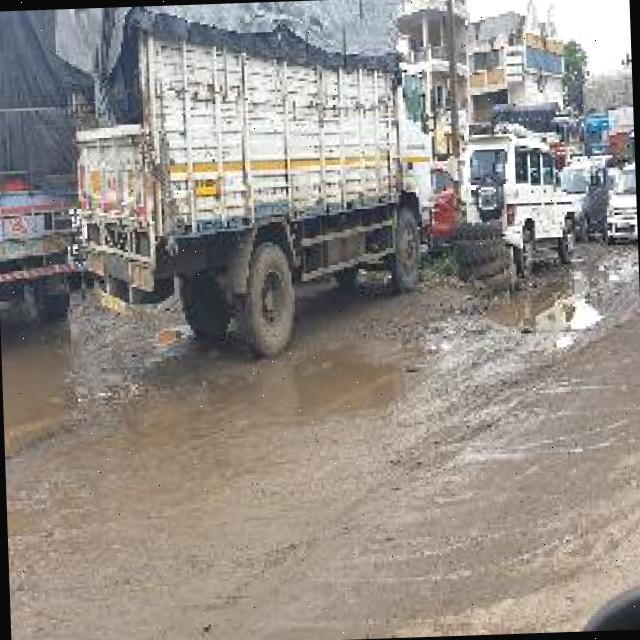waterlogging: (203, 324, 426, 437), (0, 296, 108, 463)
